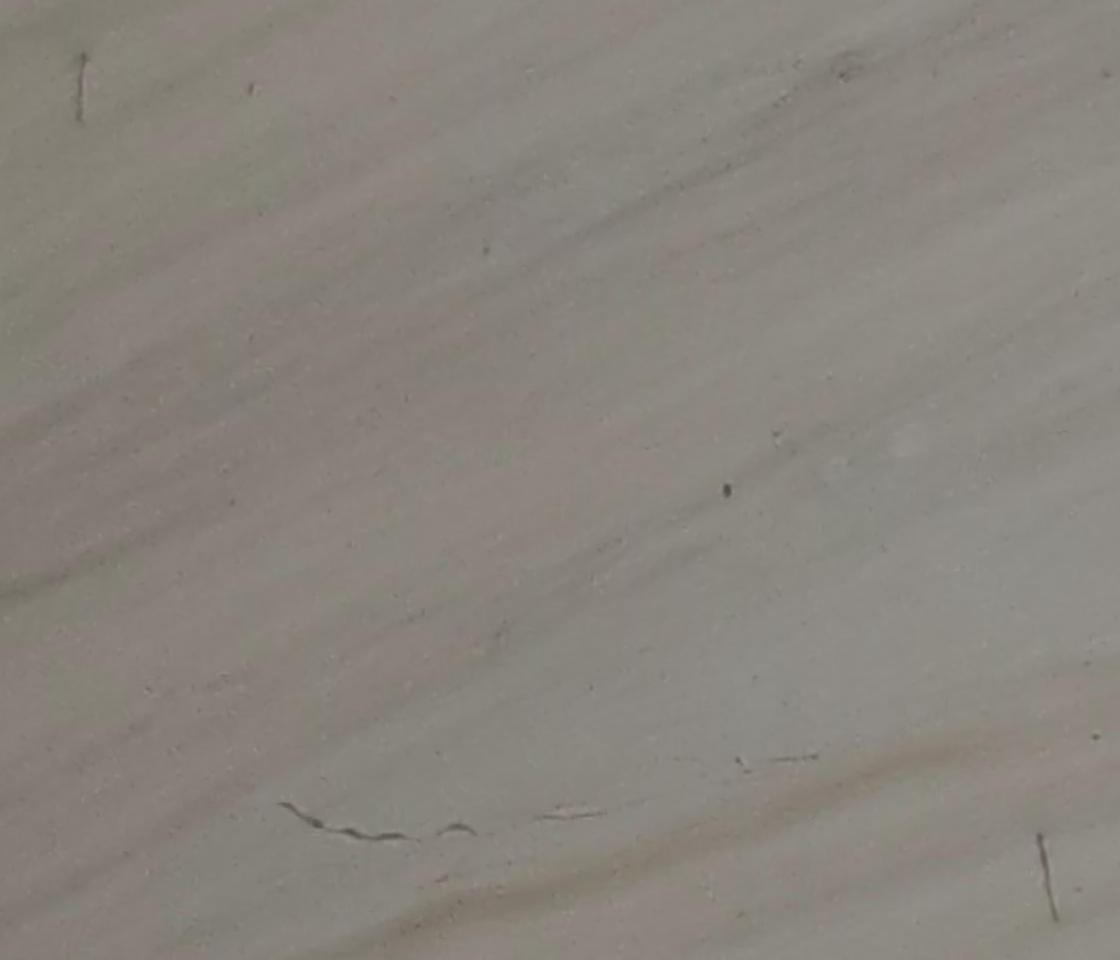scratch: (266, 793, 420, 847), (1027, 831, 1069, 932)
